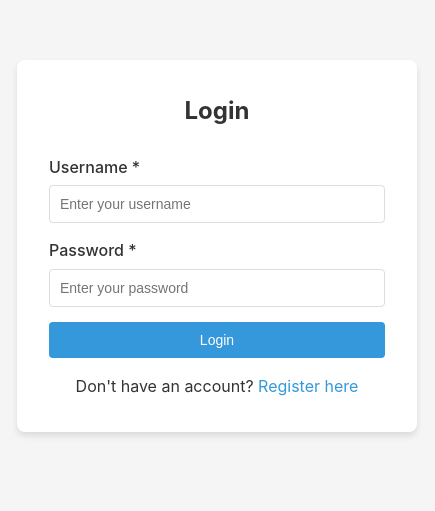
Scenario: Login Component › clears validation errors when user starts typing
Click the button "Login" at (217, 340), box [49,322,385,358]
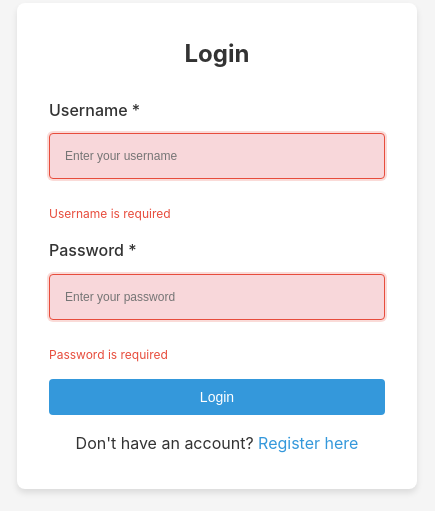
Expected: the text "Username is required" is shown, [49,206,171,221]
Type "t" into the field labelled "Username *" at (217, 156), box [49,133,385,179]
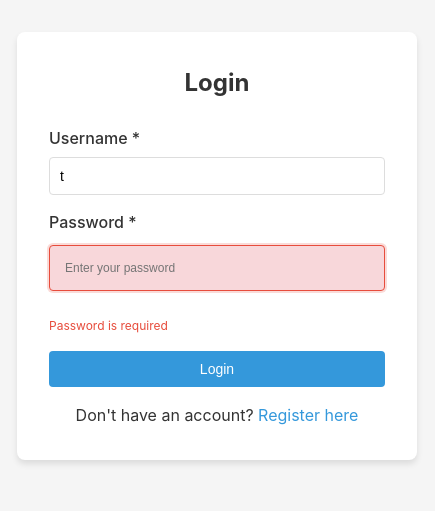
Expected: the text "Username is required" is gone
